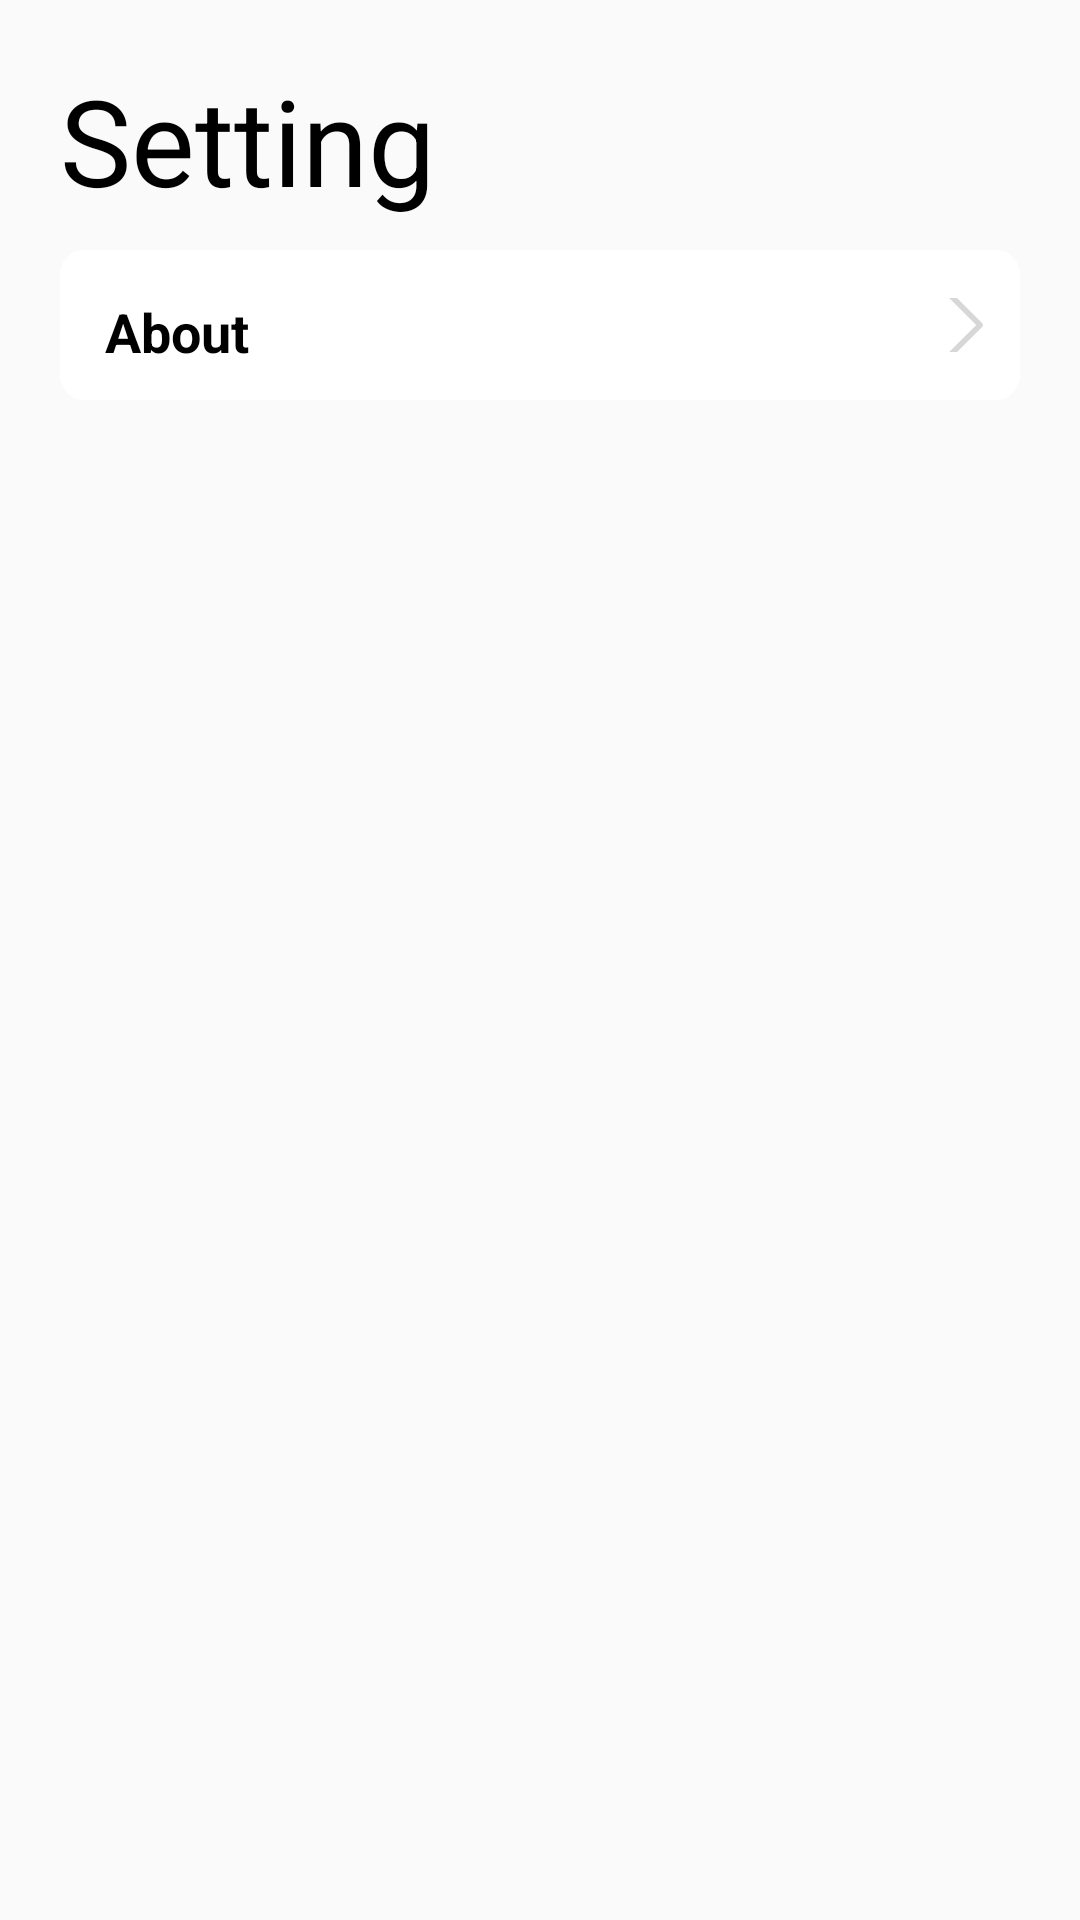

Icon bounding boxes for this 1080×1920 phone screenshot, format (x1, y1, x2, y2):
right arrow: (950, 298, 983, 352)
